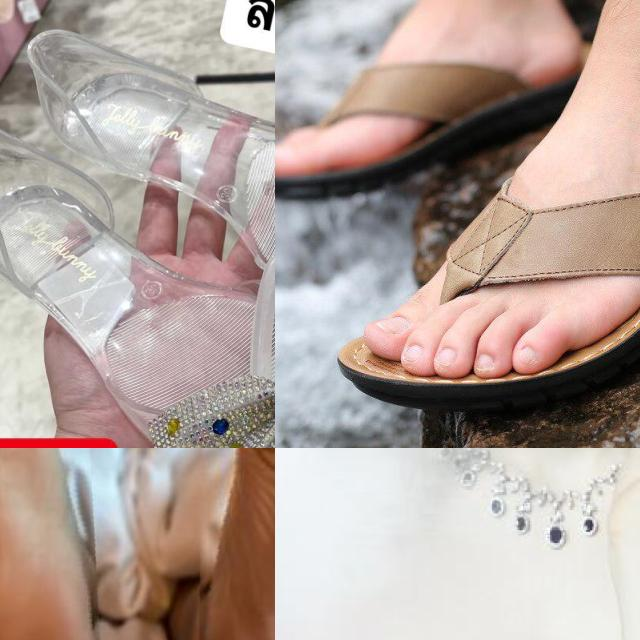Barefoots: (0, 448, 93, 640), (201, 448, 275, 640)
Sandals: (0, 0, 275, 448), (340, 123, 640, 404)
person: (318, 448, 640, 640)
